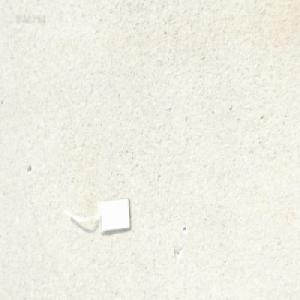LuggageTag: (64, 194, 133, 235)
